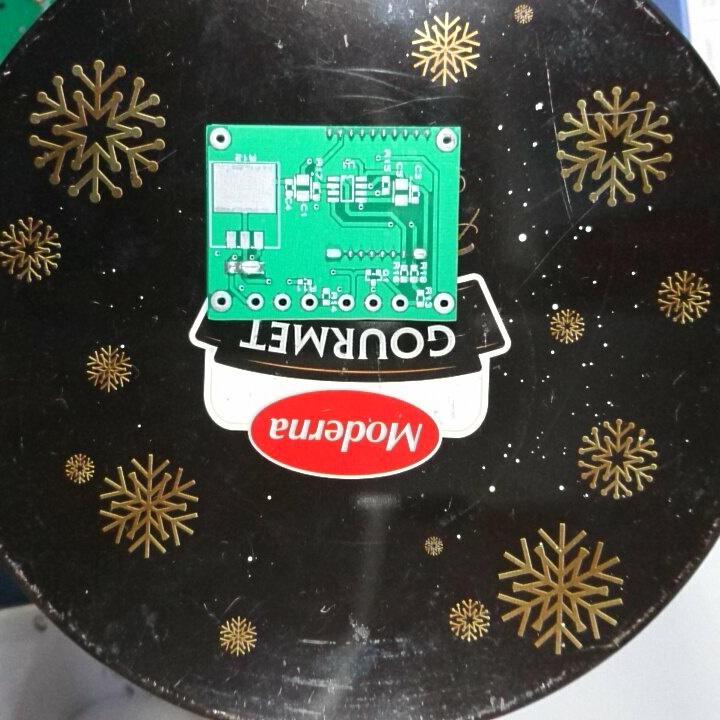F: (207, 126, 232, 153), (434, 127, 458, 154), (209, 289, 234, 314), (431, 290, 454, 315), (244, 290, 266, 312), (362, 292, 384, 313), (271, 292, 293, 312), (299, 290, 318, 312), (336, 292, 356, 312), (390, 293, 408, 313)
P: (238, 258, 266, 279), (323, 245, 343, 263), (411, 246, 429, 262)
